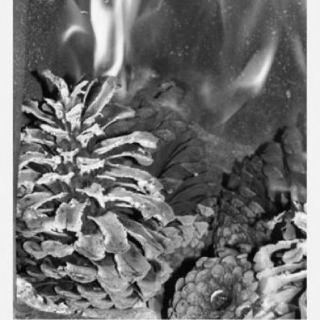Fire: (58, 3, 306, 185), (238, 241, 298, 317)
